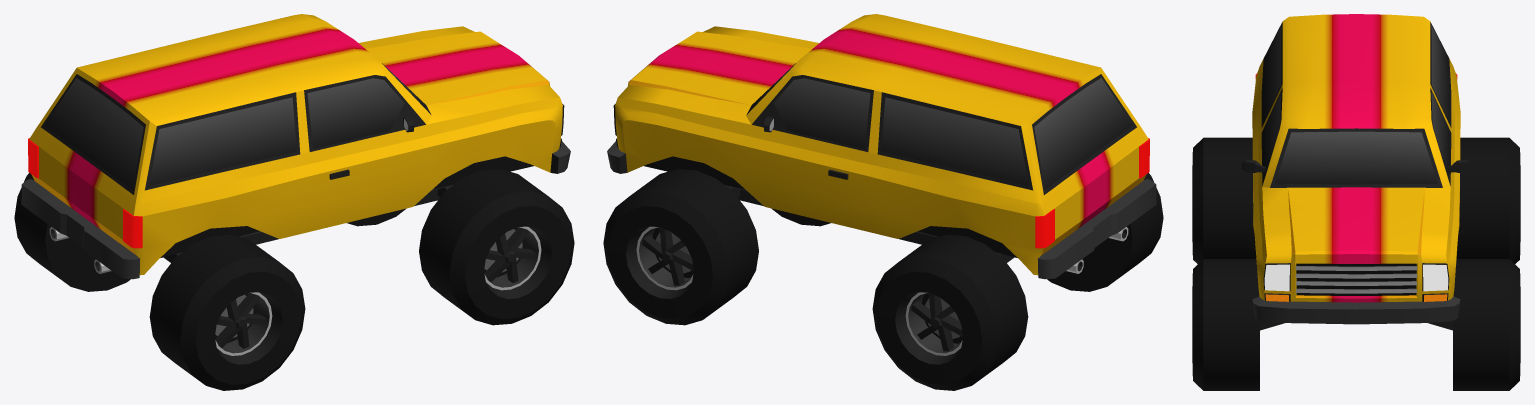
File: Car_005.glb
3 views of the same model, side by side, from view 1: azimuth 30°, elevation 25°; view 2: azimuth 150°, elevation 25°; view 3: azimuth 270°, elevation 25° (orthographic). The views are drawn at different scales.
Visible parts, largest first — view 1: Car_005, wheel_1_Car_005_Wheel_1R, wheel_3_Car_005_Wheel_2R, wheel_2_Car_005_Wheel_2L; view 2: Car_005, wheel_0_Car_005_Wheel_1L, wheel_2_Car_005_Wheel_2L, wheel_3_Car_005_Wheel_2R; view 3: Car_005, wheel_0_Car_005_Wheel_1L, wheel_1_Car_005_Wheel_1R, wheel_2_Car_005_Wheel_2L, wheel_3_Car_005_Wheel_2R.
Boxes of the visible parts, x1,y1,x2,y2 form: Car_005: (21, 14, 570, 279); wheel_1_Car_005_Wheel_1R: (419, 169, 574, 325); wheel_3_Car_005_Wheel_2R: (149, 234, 305, 390); wheel_2_Car_005_Wheel_2L: (14, 173, 130, 291); Car_005: (607, 14, 1156, 279); wheel_0_Car_005_Wheel_1L: (603, 169, 758, 325); wheel_2_Car_005_Wheel_2L: (872, 234, 1028, 390); wheel_3_Car_005_Wheel_2R: (1047, 173, 1163, 291); Car_005: (1242, 14, 1470, 330); wheel_0_Car_005_Wheel_1L: (1453, 259, 1520, 390); wheel_1_Car_005_Wheel_1R: (1192, 259, 1259, 390); wheel_2_Car_005_Wheel_2L: (1456, 137, 1520, 263); wheel_3_Car_005_Wheel_2R: (1192, 137, 1256, 263).
Size of the model in its own units: 4.82 by 2.52 by 3.28.
Materials: 3 (3 with a texture image).
